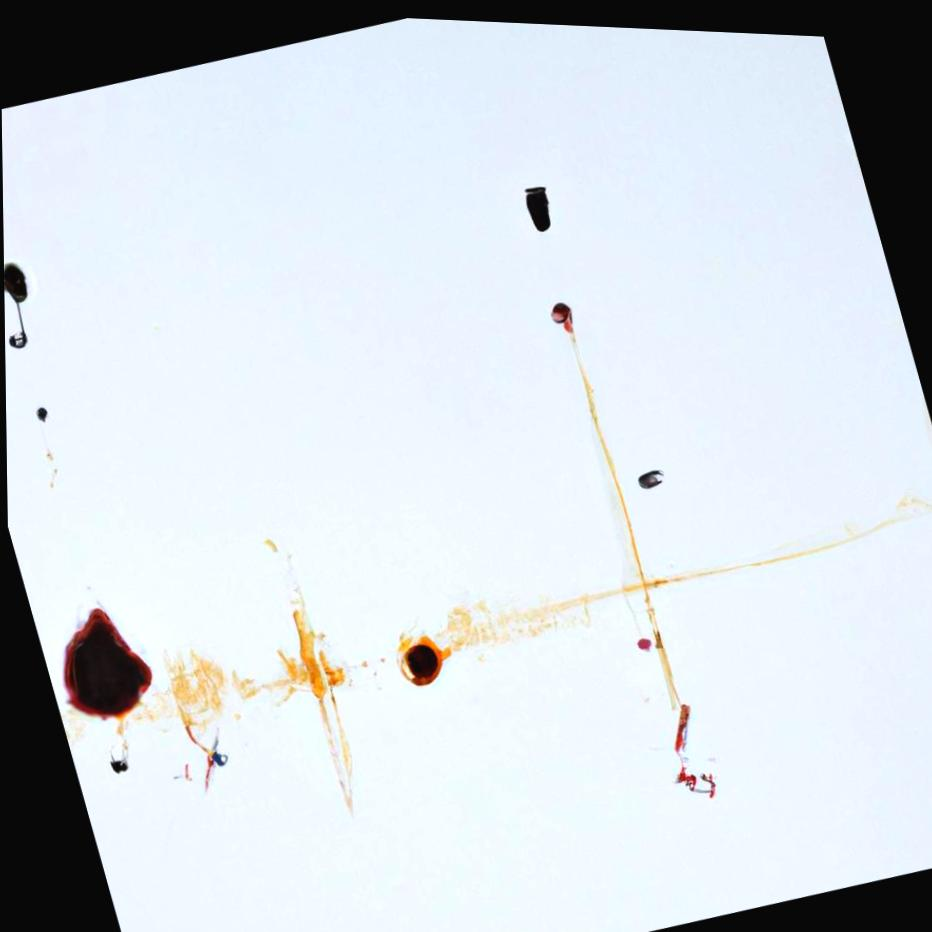Fire: (61, 607, 151, 721)
